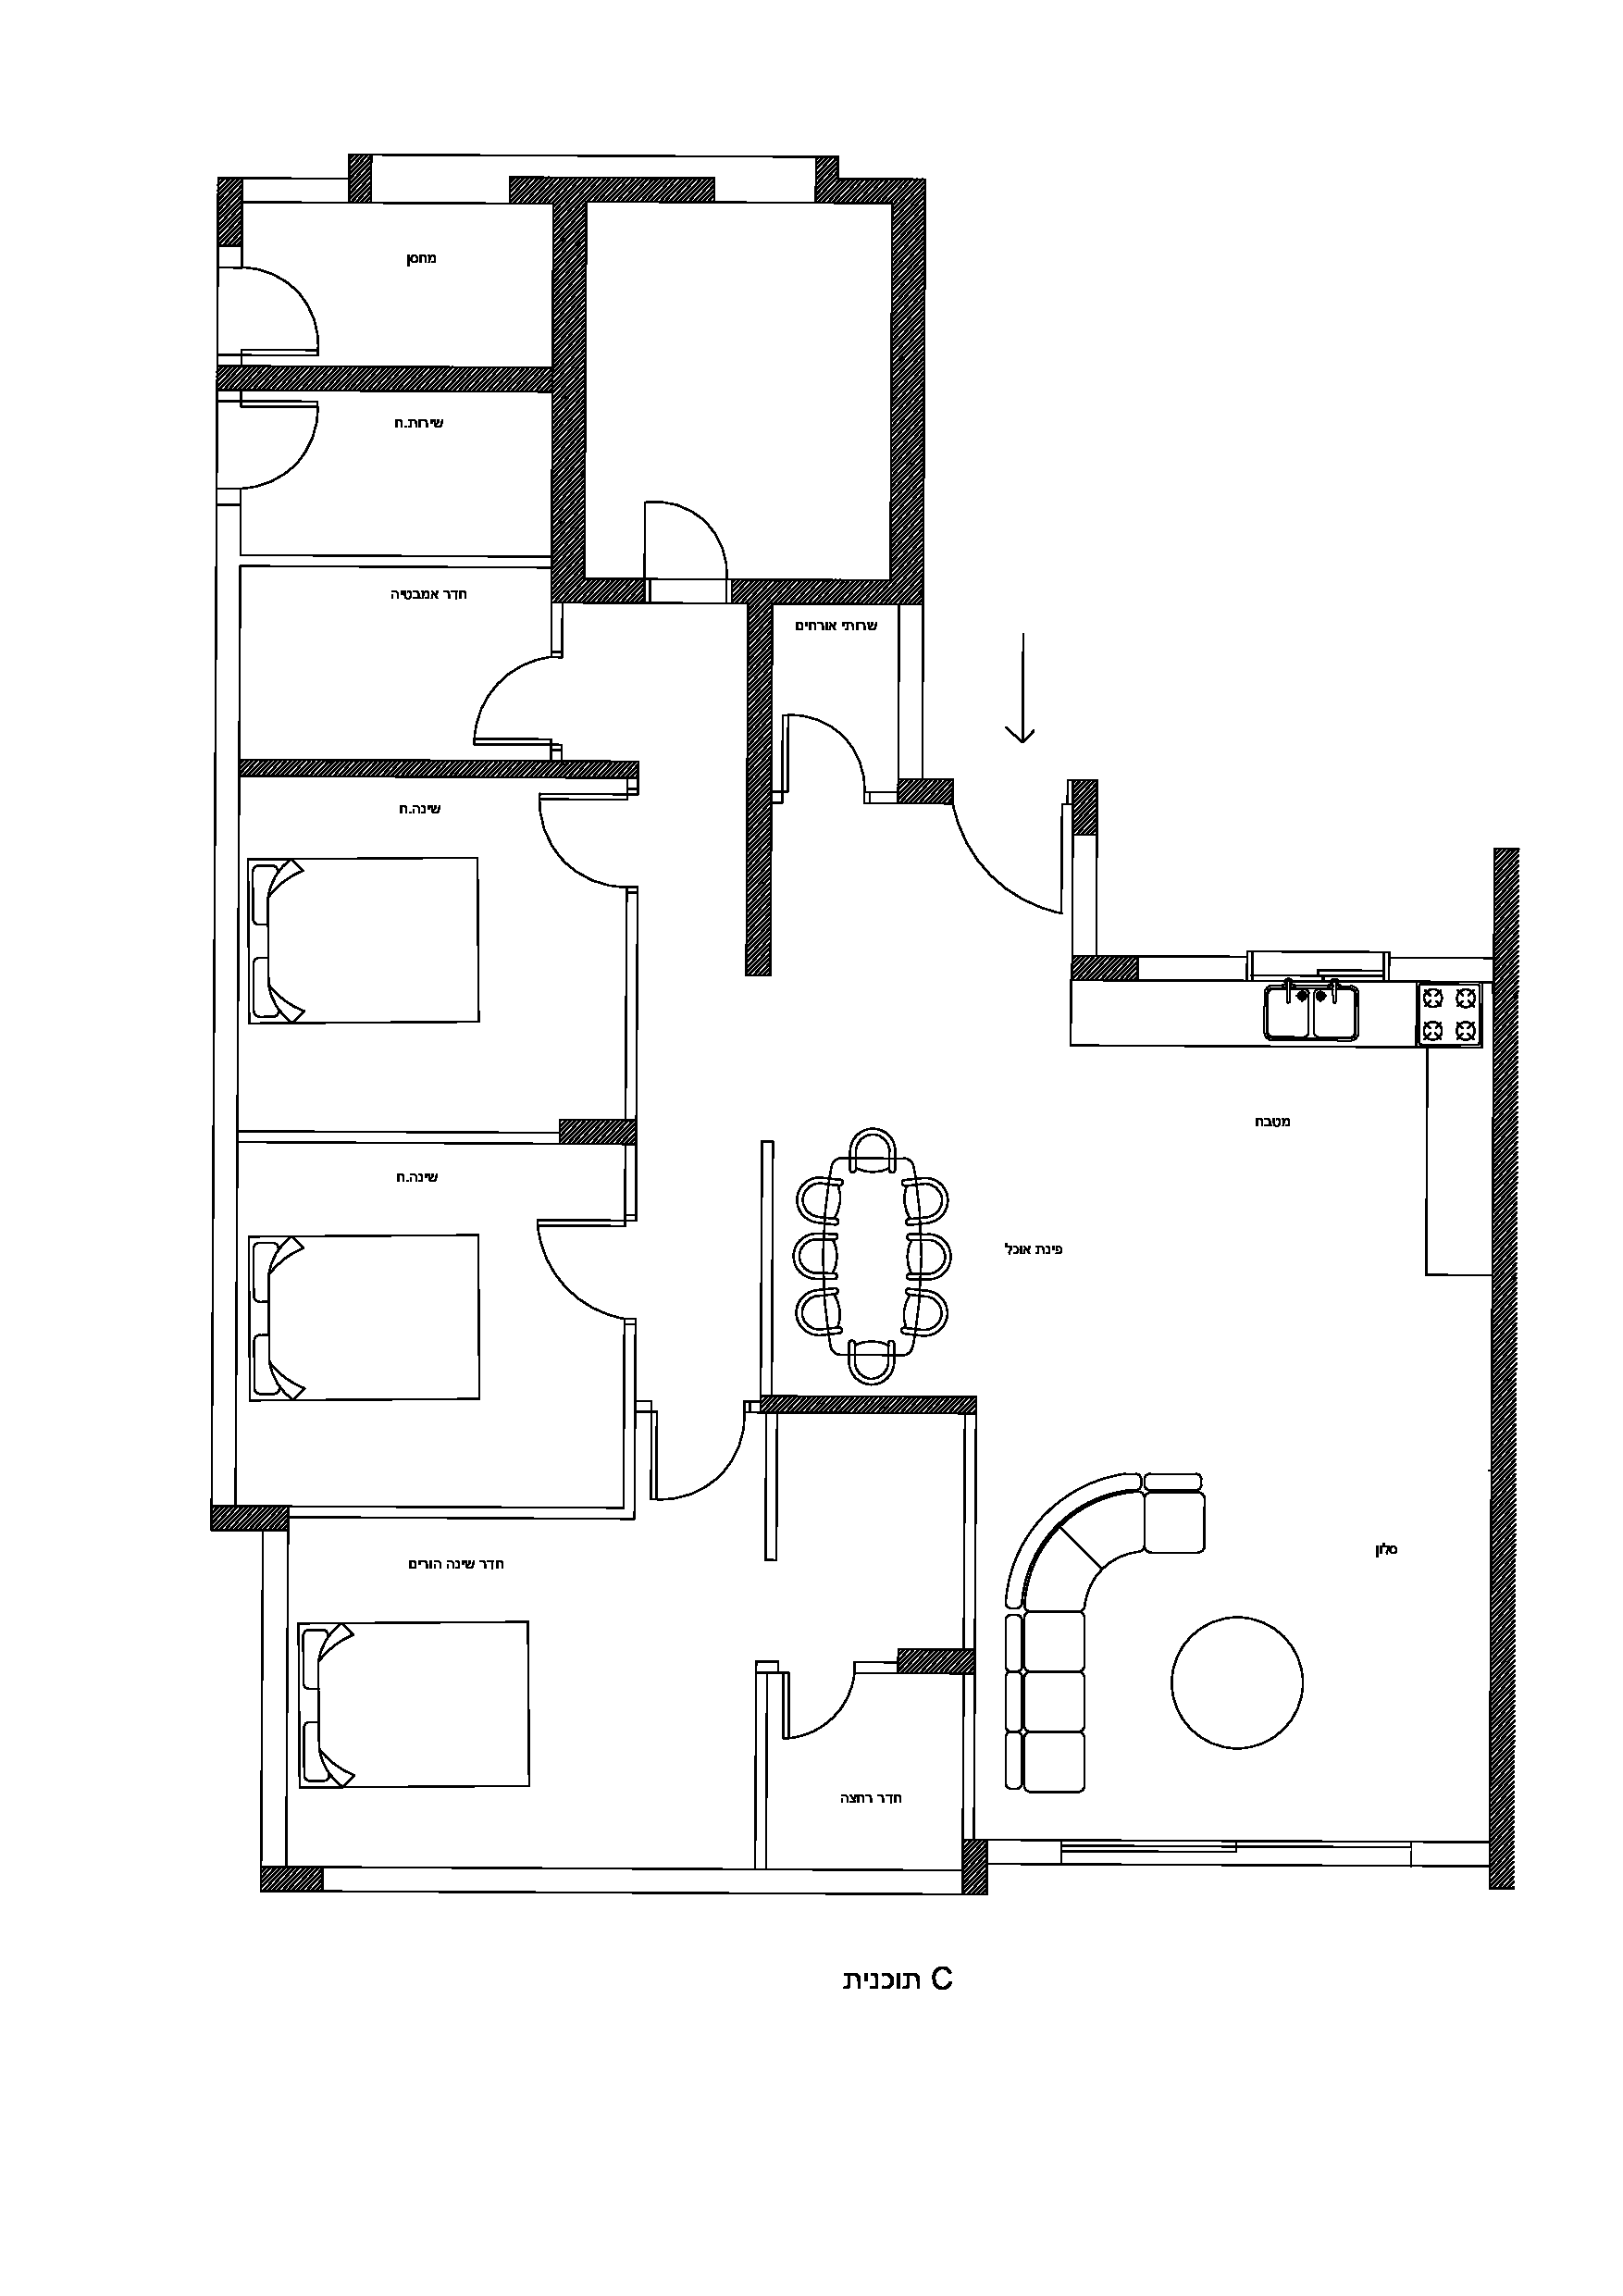door: (613, 478, 757, 571), (509, 1203, 608, 1325), (648, 1412, 747, 1534), (511, 785, 610, 905), (964, 812, 1063, 931), (441, 646, 541, 745), (778, 696, 878, 792), (244, 395, 339, 490), (251, 264, 346, 358), (782, 1678, 876, 1773)
wall: (1493, 838, 1516, 1873), (550, 213, 592, 599), (889, 176, 926, 599), (214, 367, 592, 392), (502, 170, 706, 204), (237, 759, 511, 778), (766, 1393, 968, 1416)
